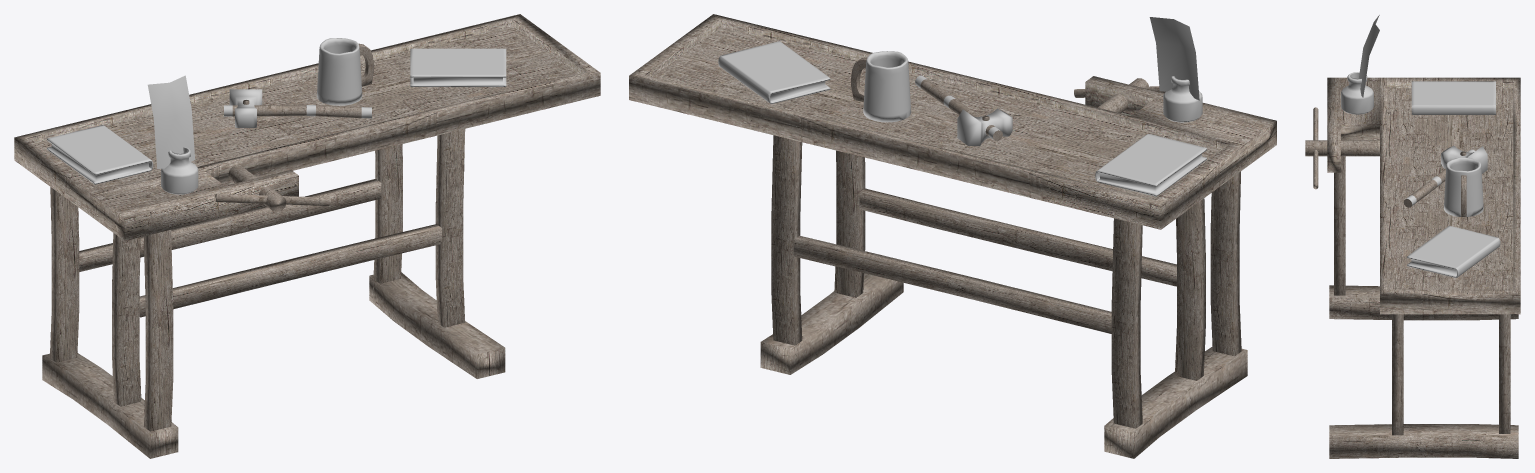
The model's file is work_bench.fbx.
3 renders of one model, left to right at view 1: azimuth 30°, elevation 25°; view 2: azimuth 150°, elevation 25°; view 3: azimuth 270°, elevation 25°, orthographic. The views are drawn at different scales.
Visible parts, largest first — view 1: Mesh; view 2: Mesh; view 3: Mesh.
Part boxes in pixels (x1,y1,x2,y2): Mesh: (14,14,600,458); Mesh: (629,14,1276,458); Mesh: (1305,15,1520,458).
Size of the model in its own units: 217 by 142 by 91.1.
